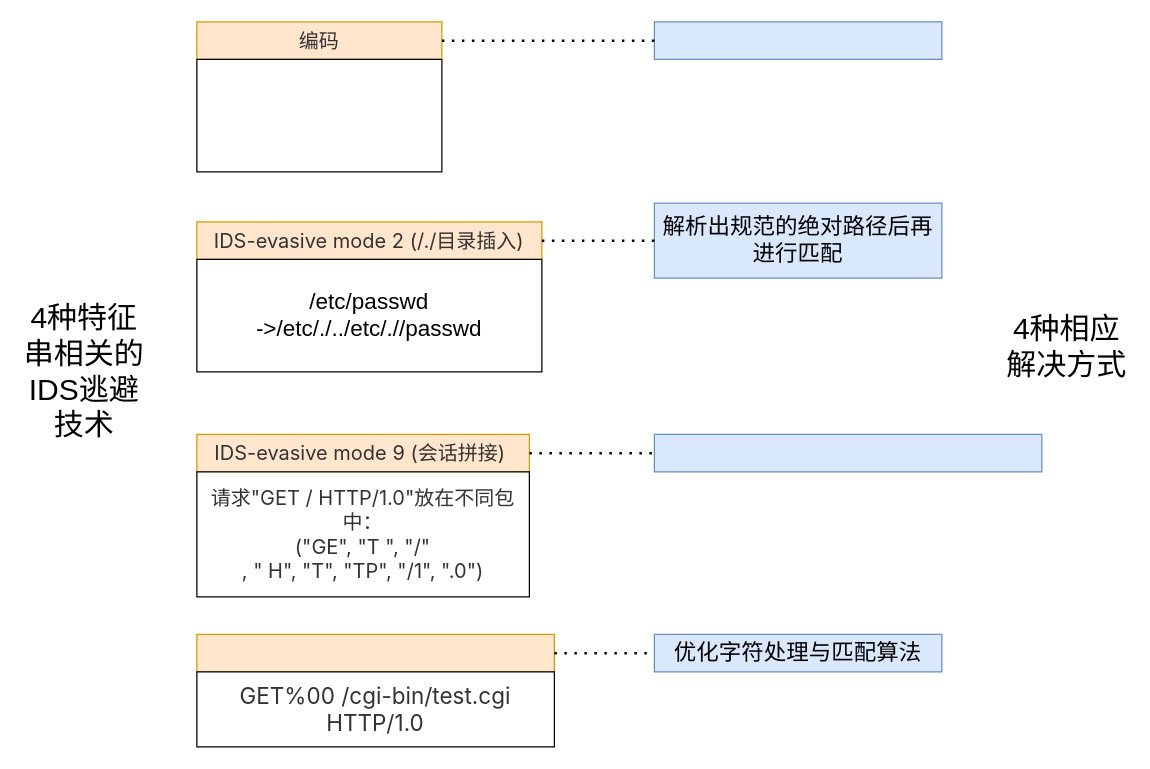
Some shapes in this 1150 by 769 pixel diagram are drawn without their labels. Each missing label, with the centre of its shape:
IDS-evasive mode 0 (NULL方法): (375,652)
URL编码 二进制编码 %u编码 ...: (319,115)
先解码后匹配: (797,40)
进行TCP重组，用链表维护捕获的分片: (847,452)
